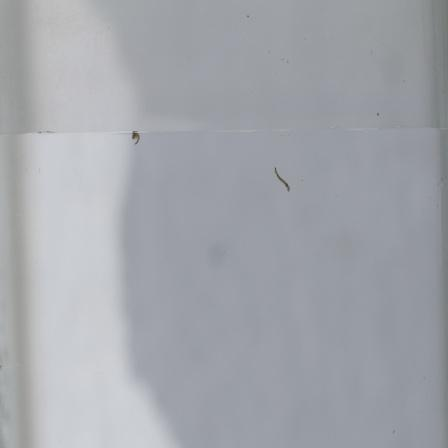Jentik-Nyamuk: (273, 164, 293, 195), (129, 128, 143, 149)
